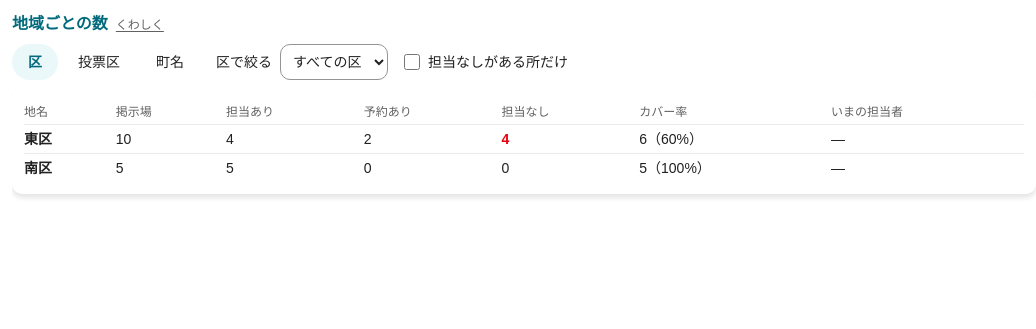
投票区の行を押すと、その投票区の掲示場が出る
Step 1. Click the button "投票区" → coordinates (99, 62), box [62,44,136,80]
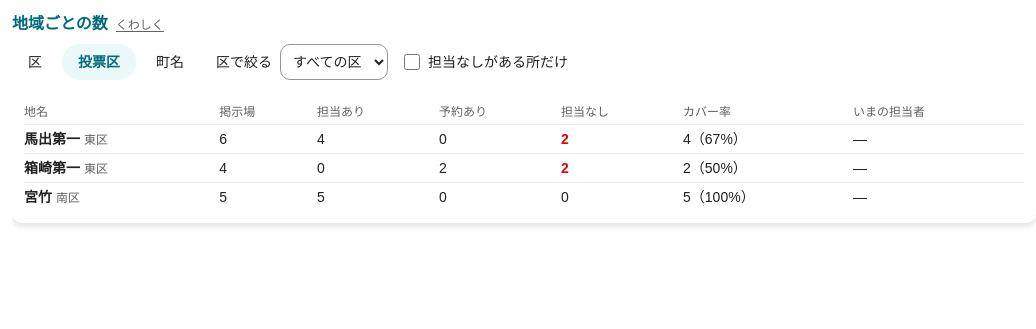
Step 2. Click the button "箱崎第一" → coordinates (52, 168), box [24,158,80,178]
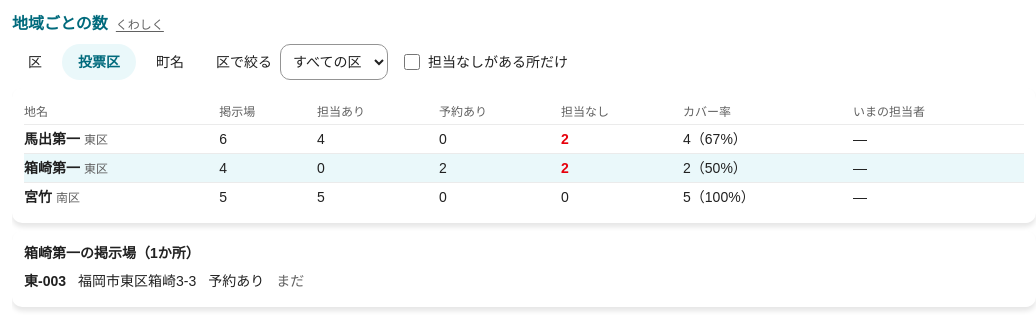
Expected: the text "東-003" is shown, [24,271,66,291]
